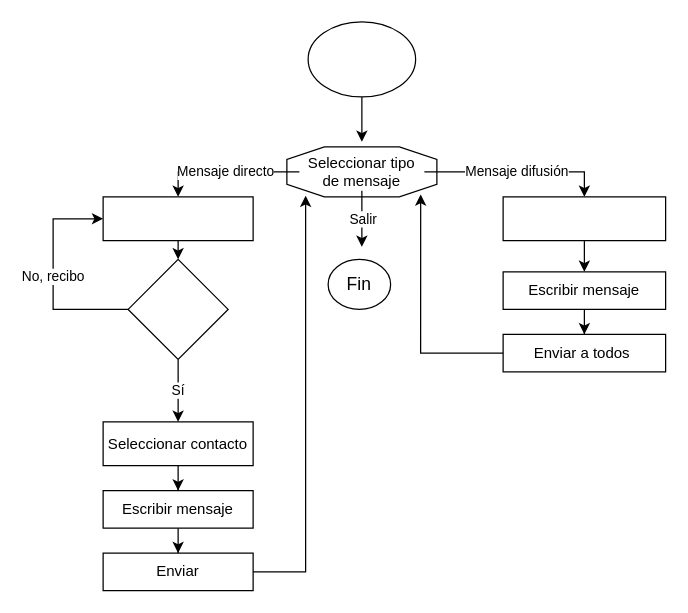
Some shapes in this 688 by 613 pixel diagram are drawn without their labels. Each missing label, with the centre of its shape:
Inicio: pixel 361 59
Seleccionar contactos: pixel 584 218
Ver el chat: pixel 177 218
¿Envia un mensaje?: pixel 177 308
